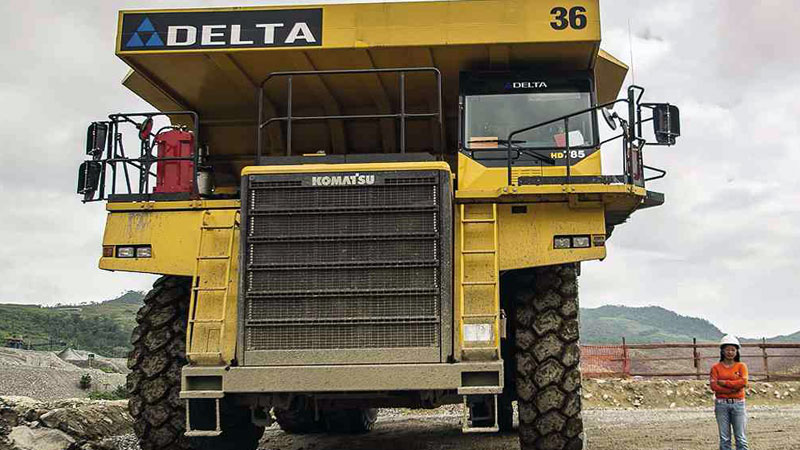truck: (80, 1, 664, 447)
